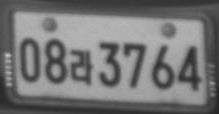0: (19, 37, 40, 81)
3: (97, 41, 122, 88)
4: (178, 46, 202, 91)
6: (151, 44, 174, 89)
7: (122, 42, 147, 89)
8: (44, 37, 67, 84)
라: (69, 48, 94, 85)
